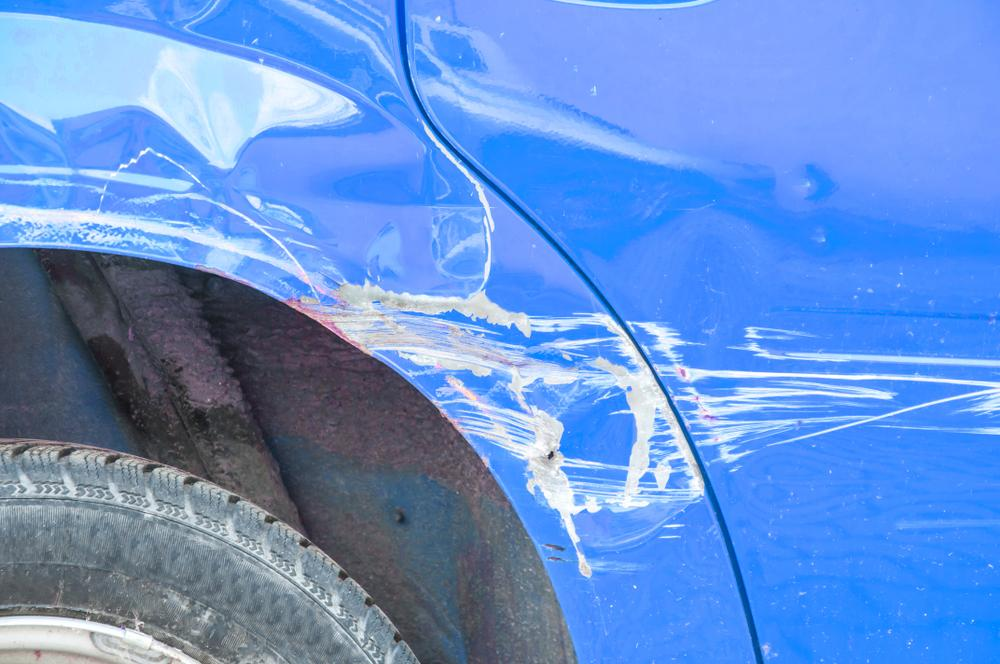dent: (0, 5, 485, 300)
scratch: (278, 287, 705, 583), (624, 315, 1000, 474)
